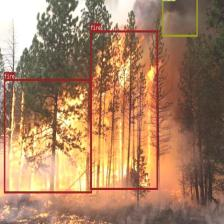fire: (90, 30, 157, 189), (4, 78, 92, 192)
smoke: (162, 0, 197, 36)
